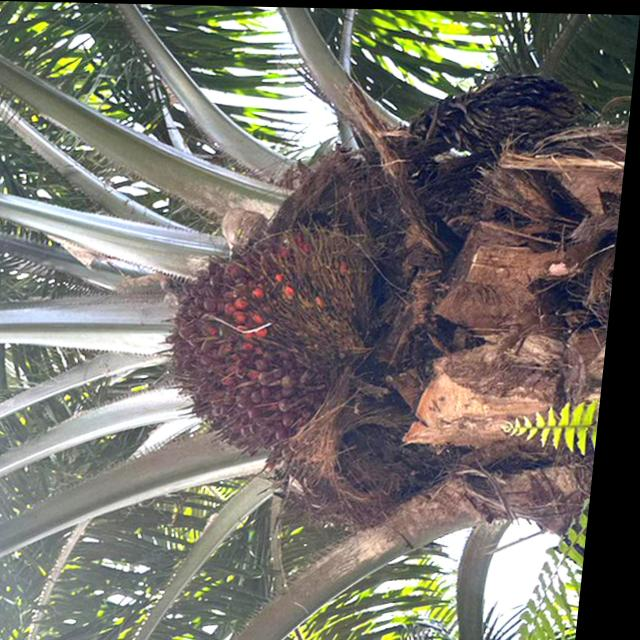ripe: (143, 193, 399, 480)
